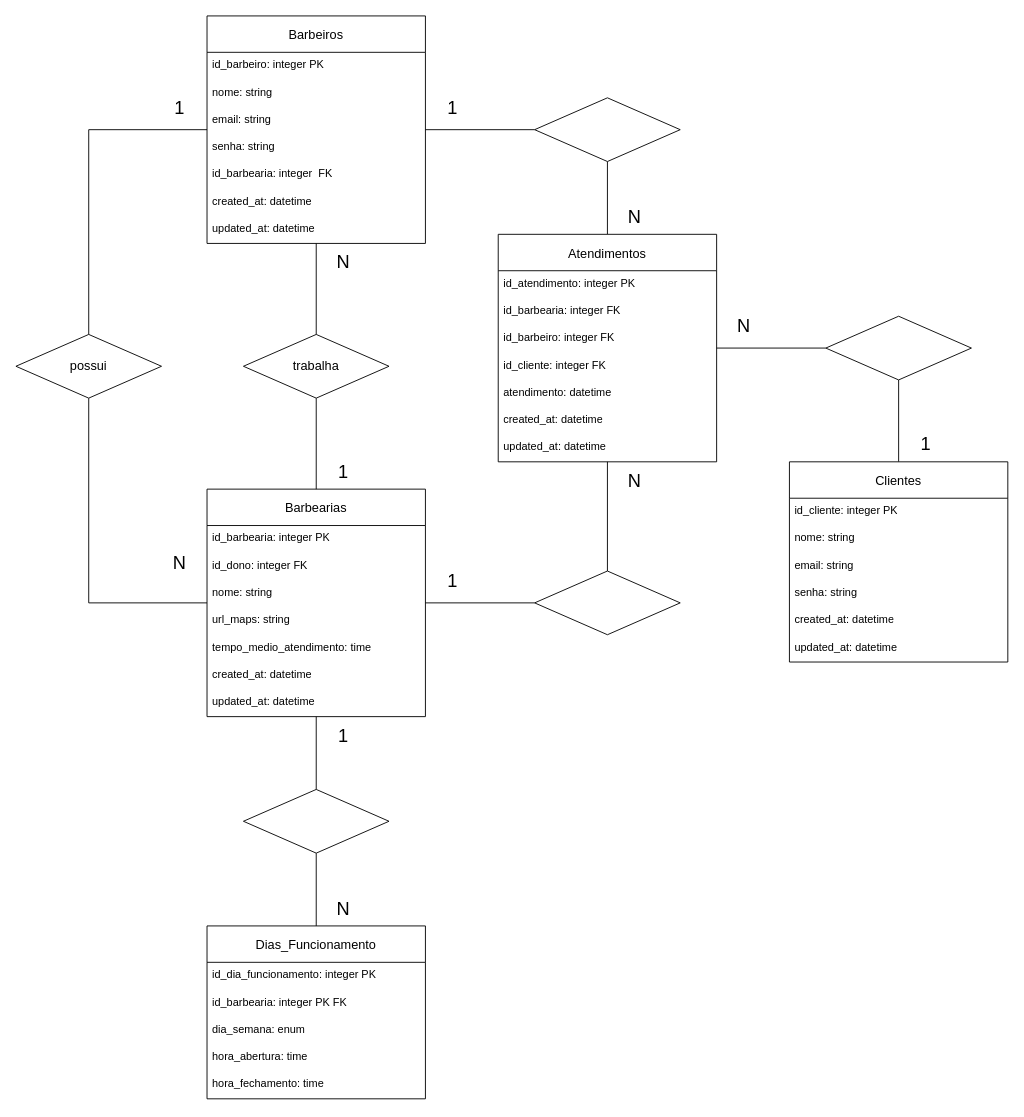
The diagram is 1024 pixels wide and 1117 high, and some of its shapes have lost their labels. Here are the shapes that lost their labels. From the top down, the centre of each, then its label:
At (x=607, y=129): "realiza".
At (x=898, y=347): "agenda".
At (x=607, y=602): "ocorre".
At (x=316, y=821): "tem".
